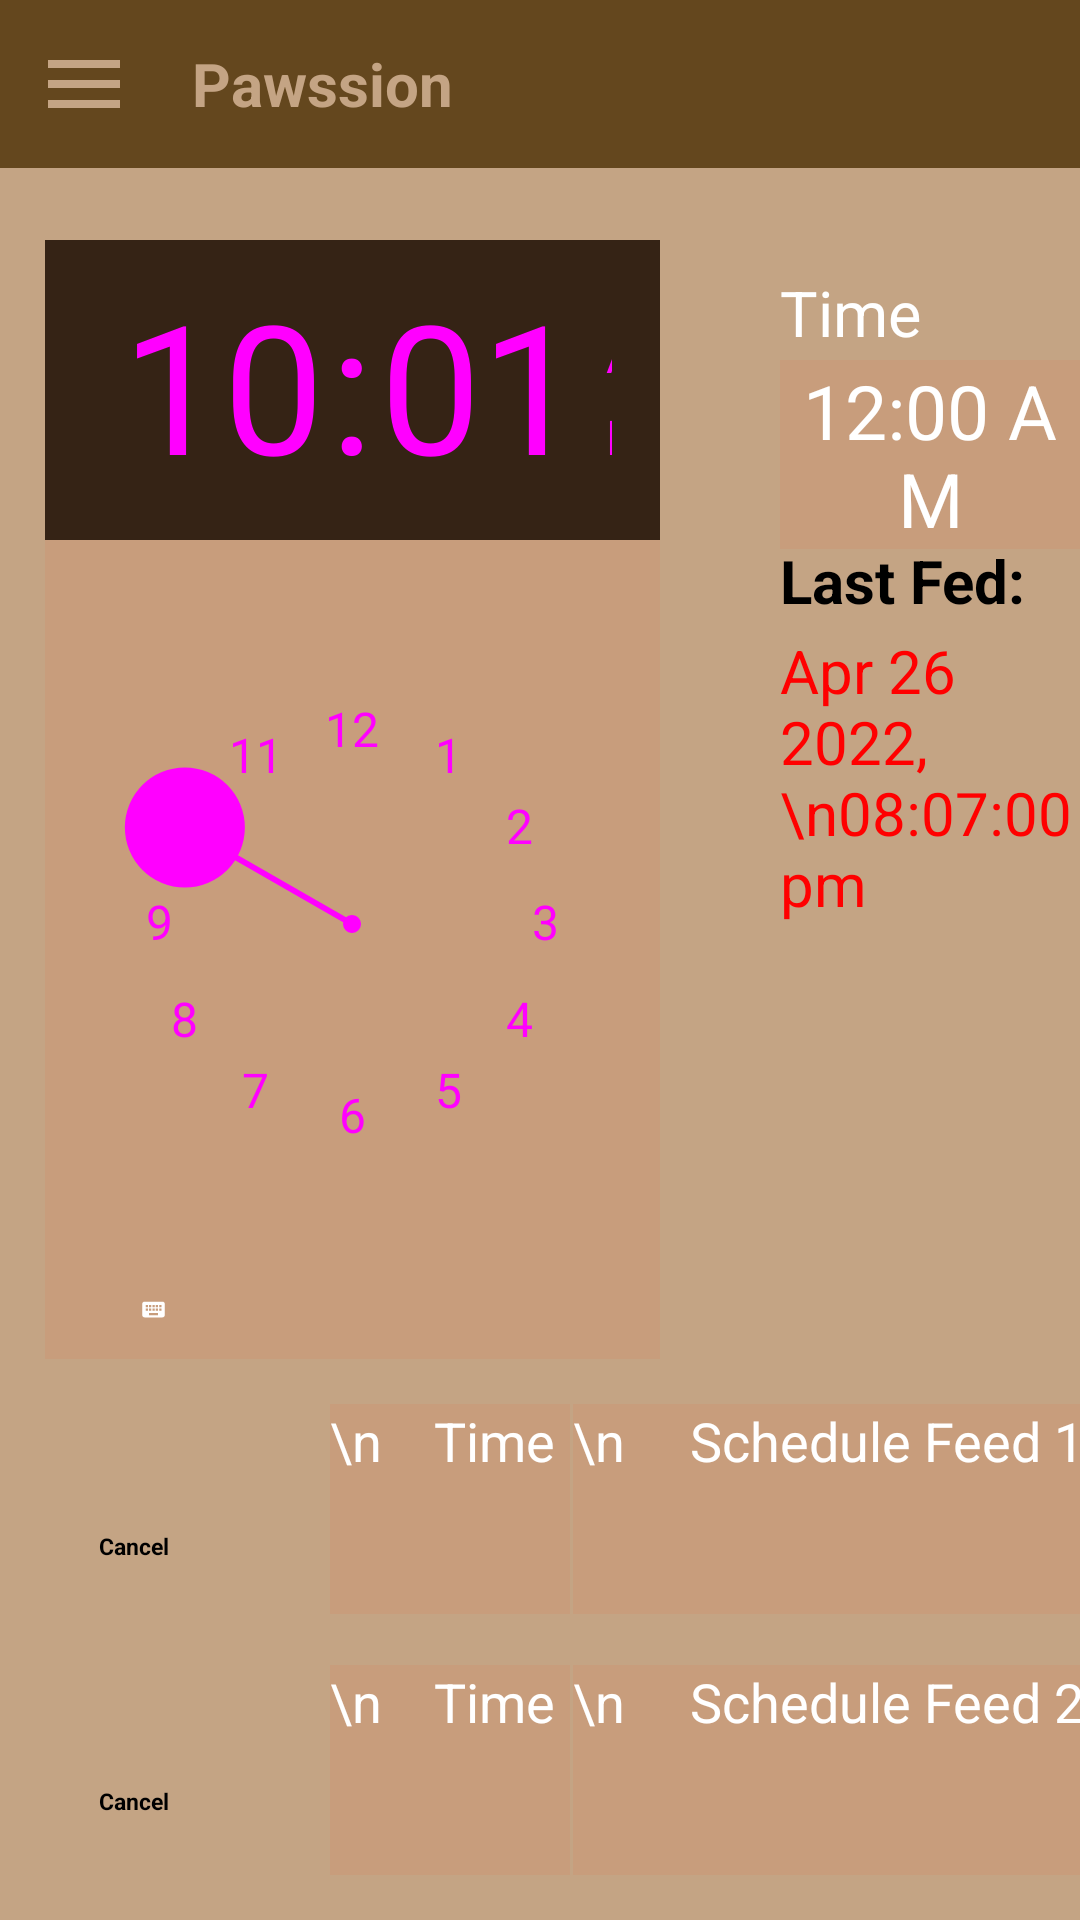

Icons on this 1080×1920 Android screen, each with its box as {"left": x1, "top": y1, "right": x2, "bottom": y2}:
menu: {"left": 48, "top": 60, "right": 120, "bottom": 108}
